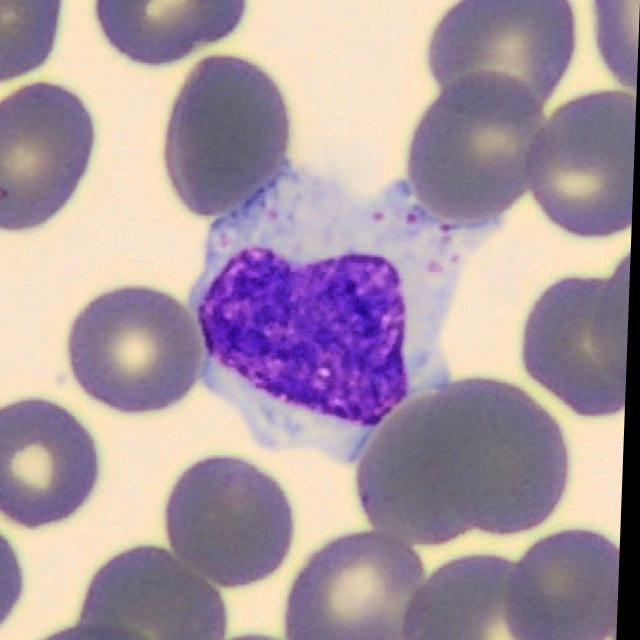Linfocito atipico: (193, 163, 500, 459)
